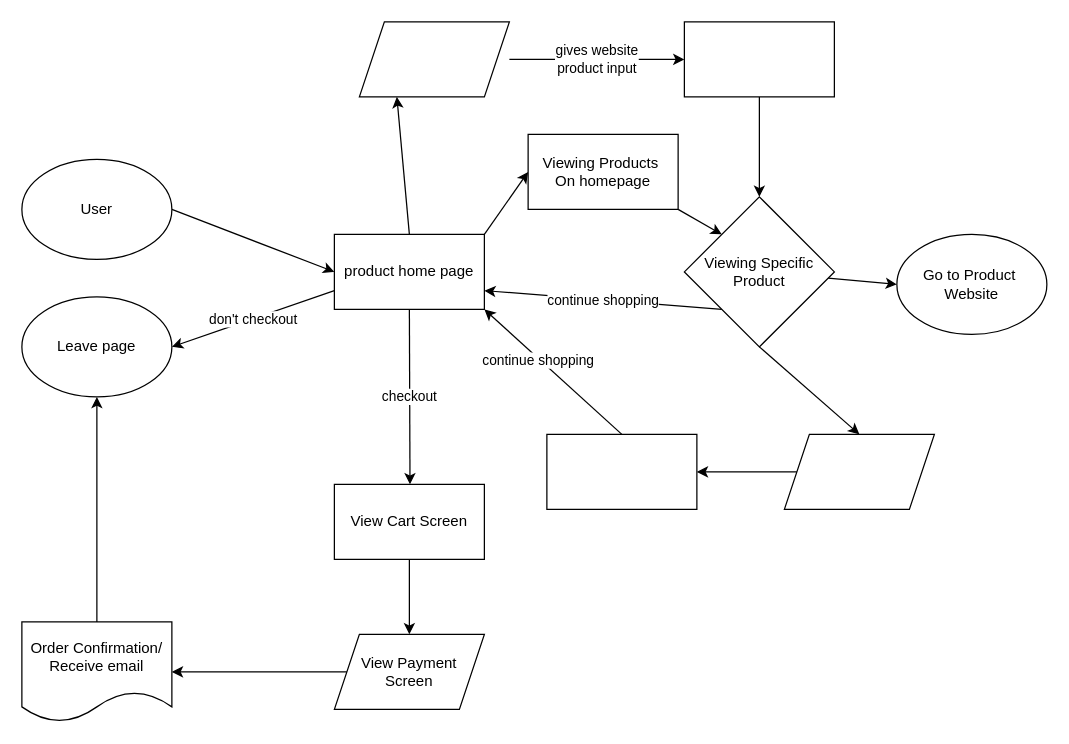
Image size: 1069x744. Some labels were removed from this diagram. Each missing label, with the box of its shape:
Add Item to Cart: (783, 433, 934, 509)
Confirmation Page: (546, 433, 697, 509)
Product page given input: (683, 21, 834, 97)
product sarch: (358, 21, 509, 97)
